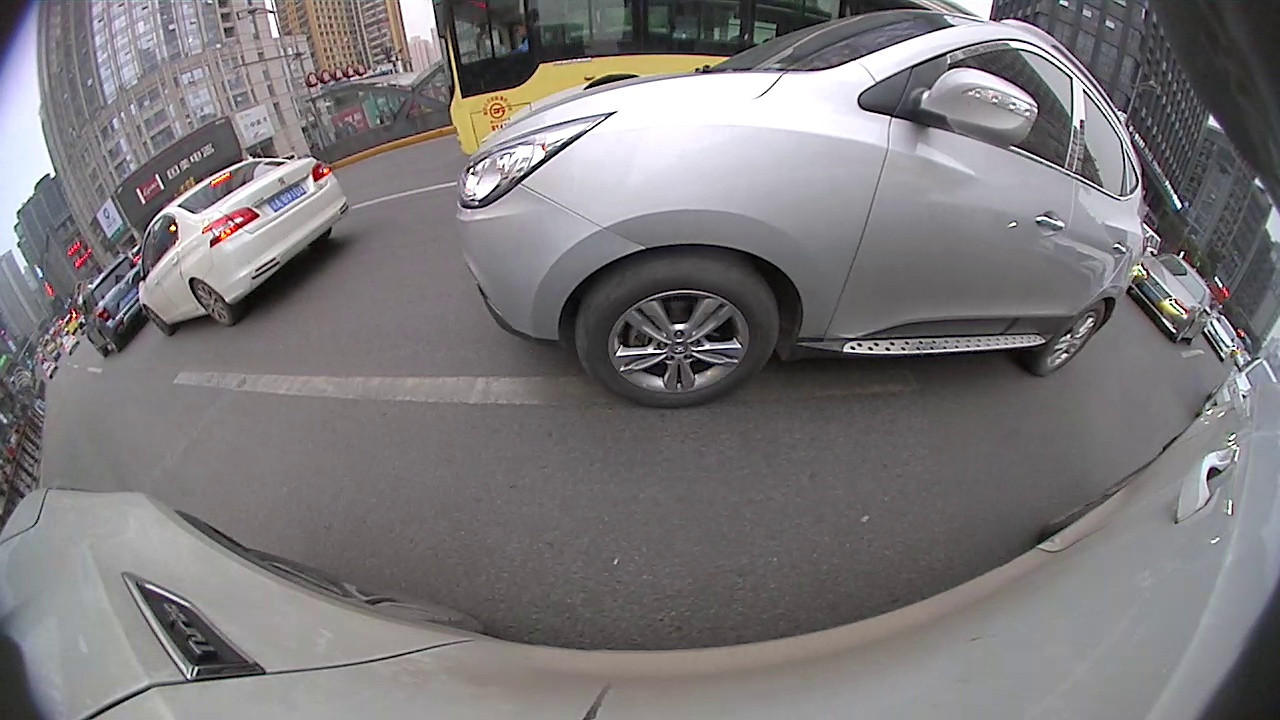bus: (424, 0, 983, 160)
car: (453, 10, 1147, 408), (134, 155, 352, 338), (1124, 251, 1214, 347), (75, 252, 142, 357)
front: (568, 261, 785, 409)
rear: (1030, 299, 1106, 380), (187, 276, 237, 329)
